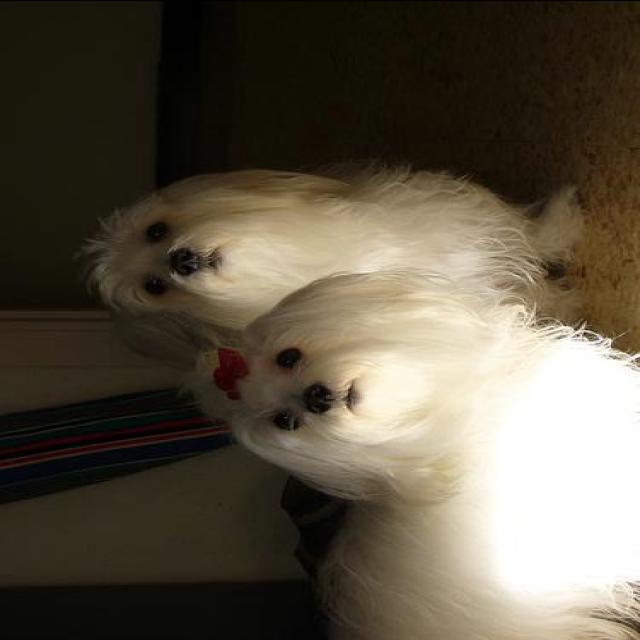maltese_dog: (190, 270, 638, 638), (80, 166, 587, 350)
